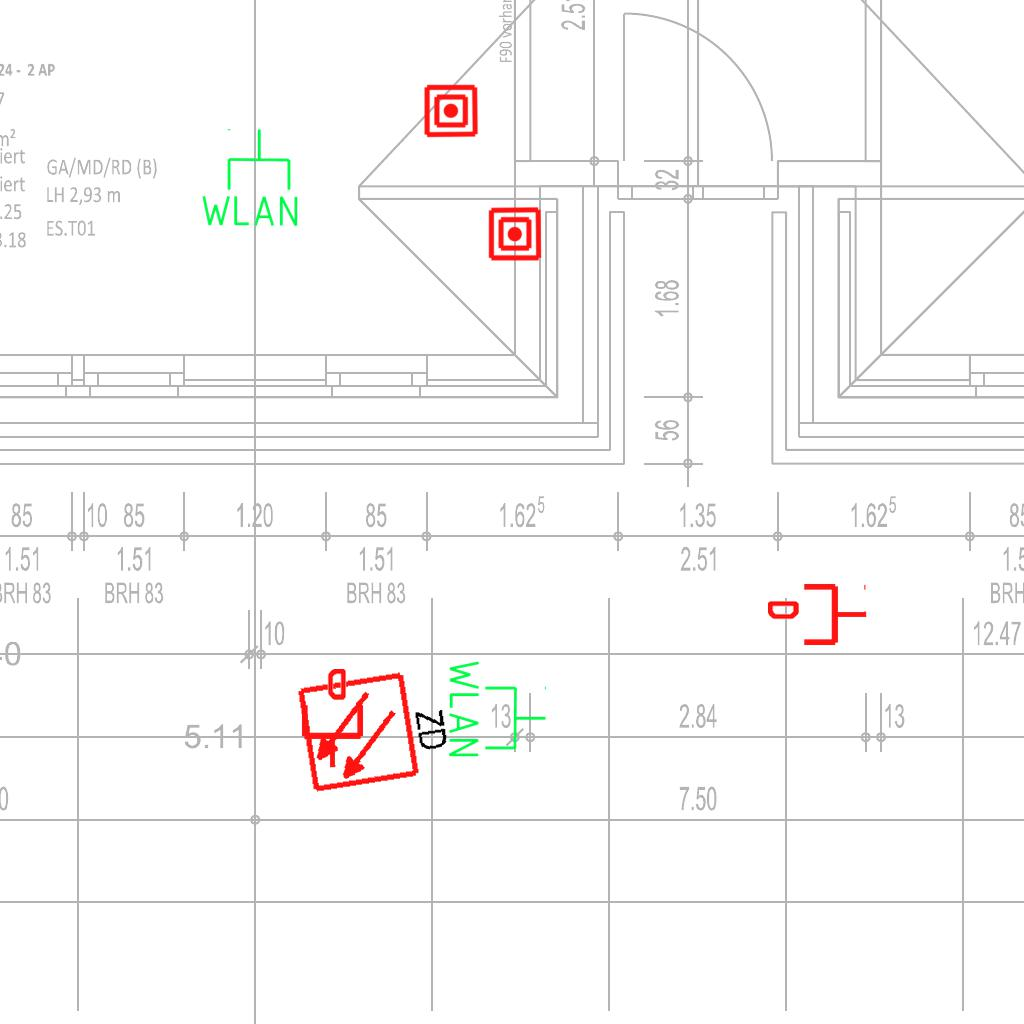Datenanschluss_einfach: (768, 580, 868, 649), (298, 669, 367, 769)
NAM-Nichtautomatischer_Melder: (487, 206, 543, 262), (423, 83, 479, 139)
WLAN: (445, 656, 549, 761), (197, 126, 302, 230)
ZD_Melder_in_Zwischendecke_mit_Revisionsoeffnung_mind_40_x_40_cm: (294, 659, 460, 796)
